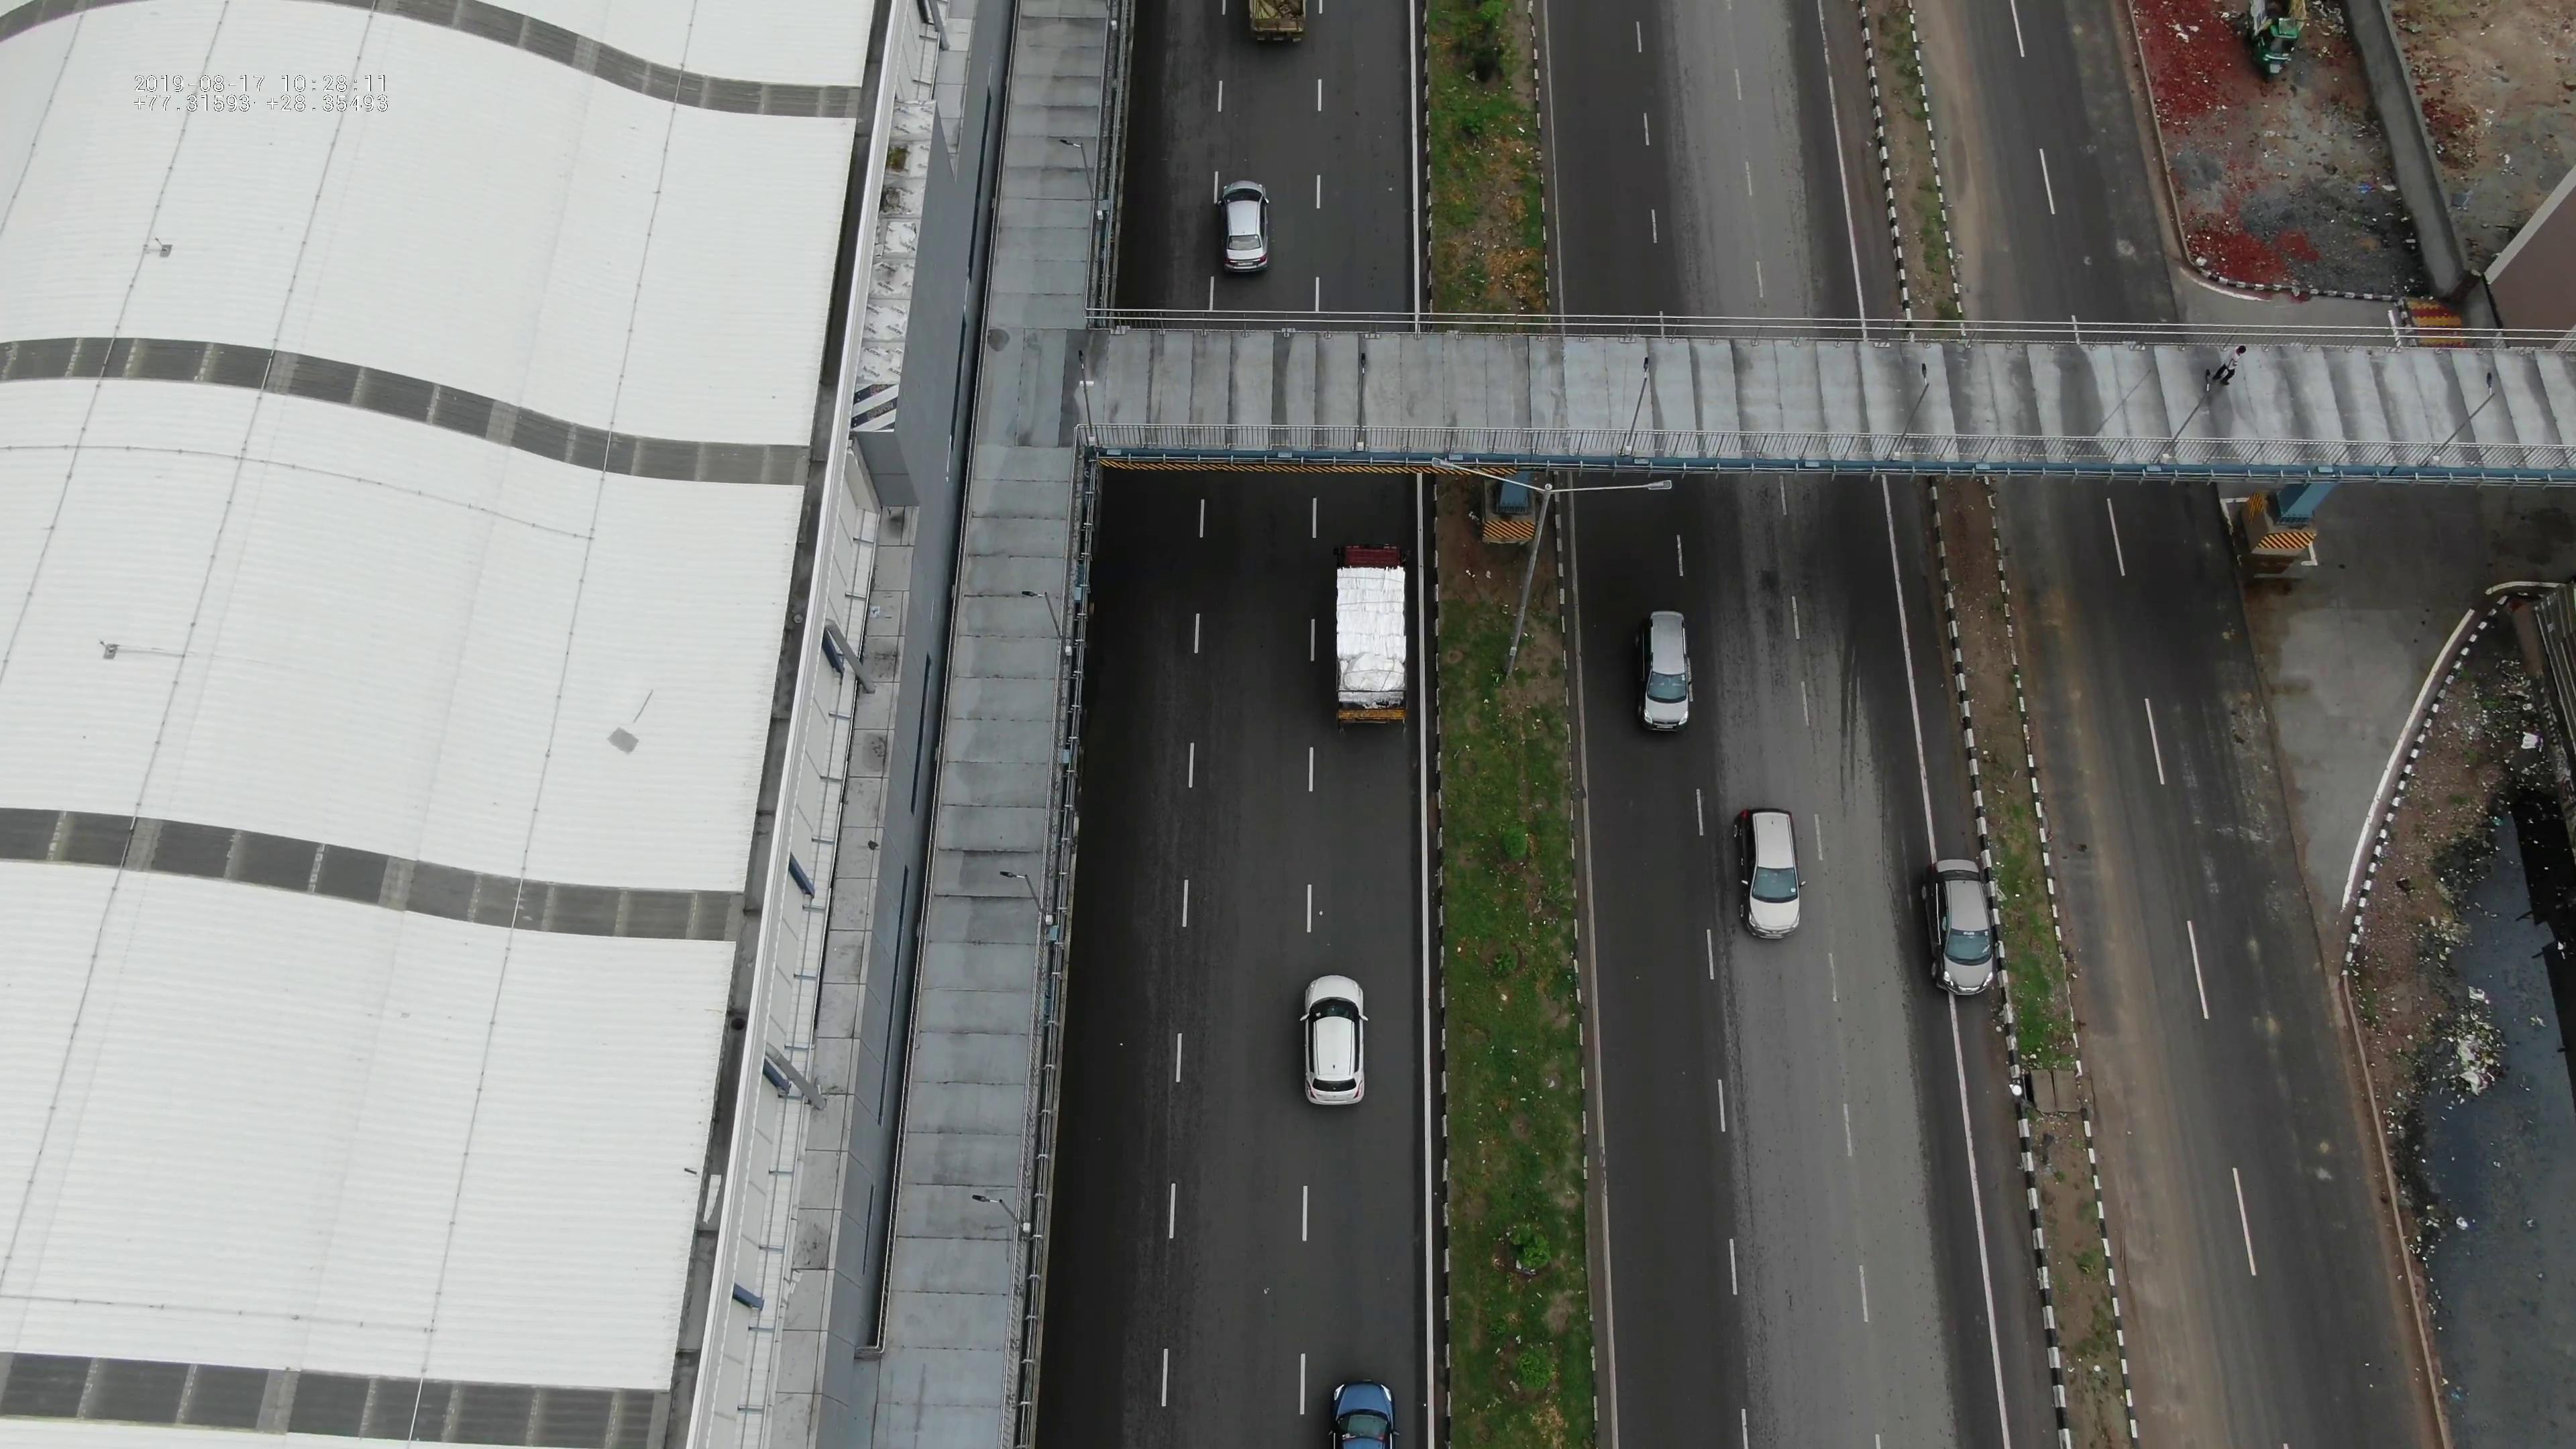Potholes: (2054, 27, 2139, 179), (2102, 221, 2176, 326)
